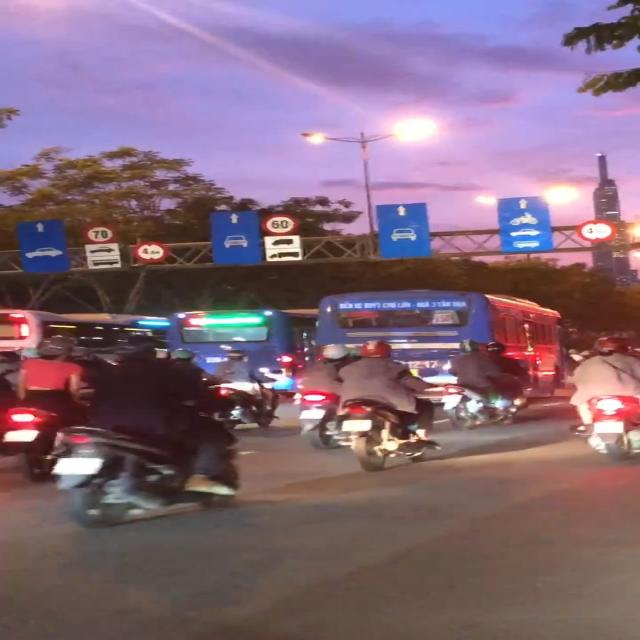Bien bao han che chieu cao: (133, 240, 169, 263)
Bien bao toc do toi da cho phep: (258, 213, 306, 236), (82, 224, 122, 245)
